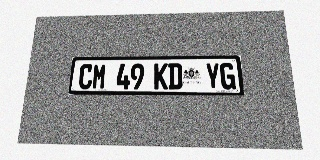4: (116, 64, 131, 89)
9: (130, 63, 144, 89)
C: (78, 64, 93, 89)
D: (168, 63, 182, 89)
G: (220, 63, 236, 90)
K: (154, 63, 168, 89)
M: (92, 64, 107, 89)
Y: (205, 63, 221, 90)
